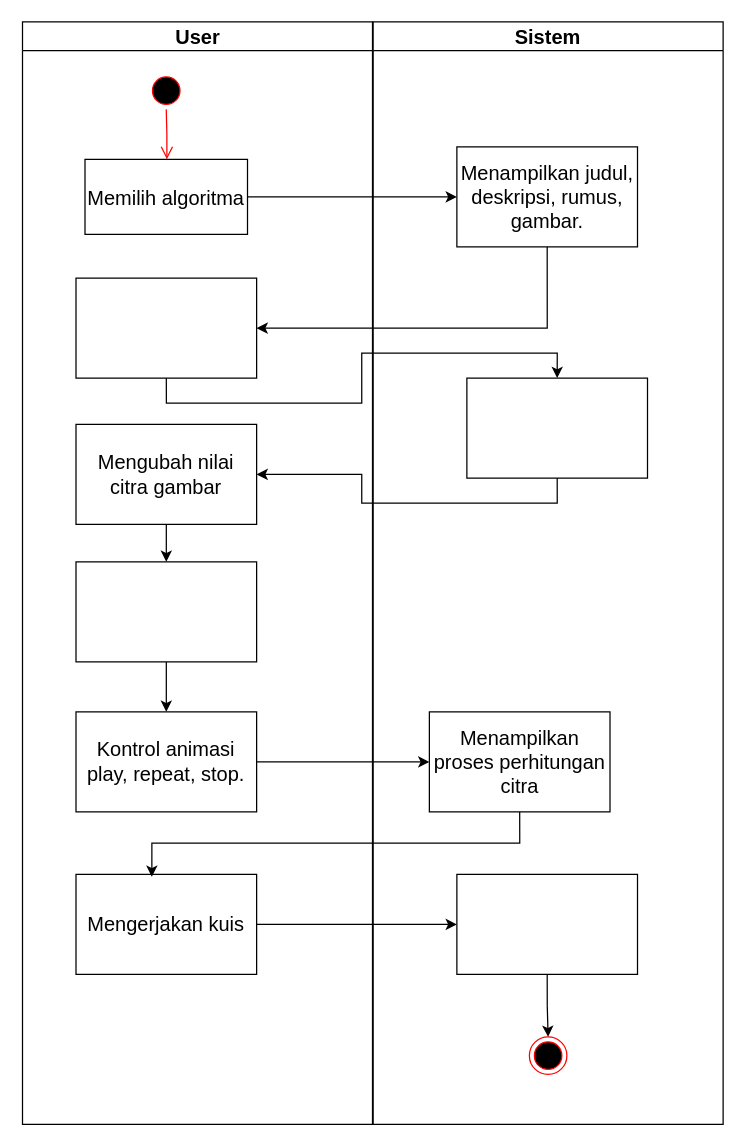
Some shapes in this 745 by 1146 pixel diagram are drawn without their labels. The shapes that lost their labels are listed below. From the top down, each one's centre as x and y in pixels, then its label:
point 166,327: Memilih gambar
point 557,427: Menampilkan tabel citra, tabel hasil, proses perhitungan.
point 166,611: Mengubah parameter perhitungan (jika ada)
point 547,923: Menampilkan hasil kuis
